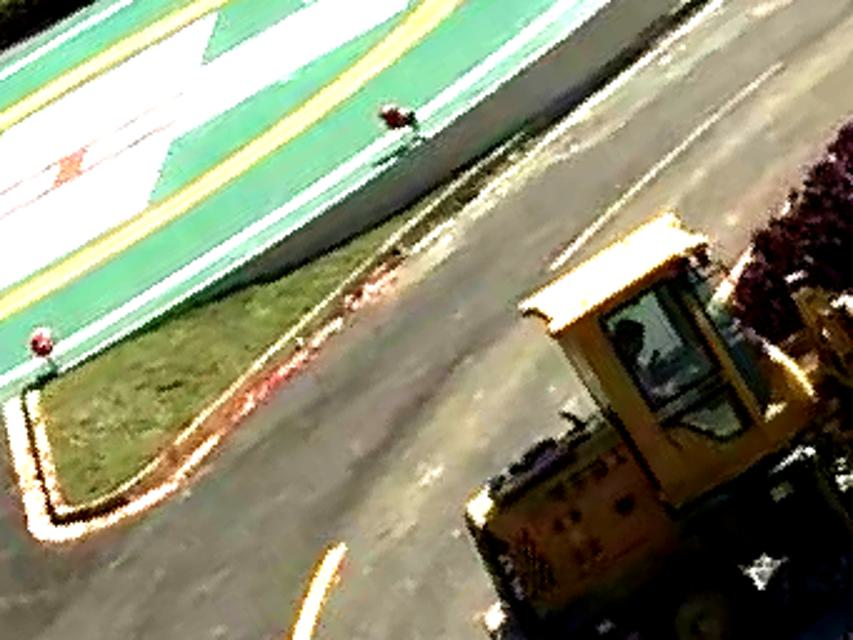Apron: (1, 1, 472, 332)
